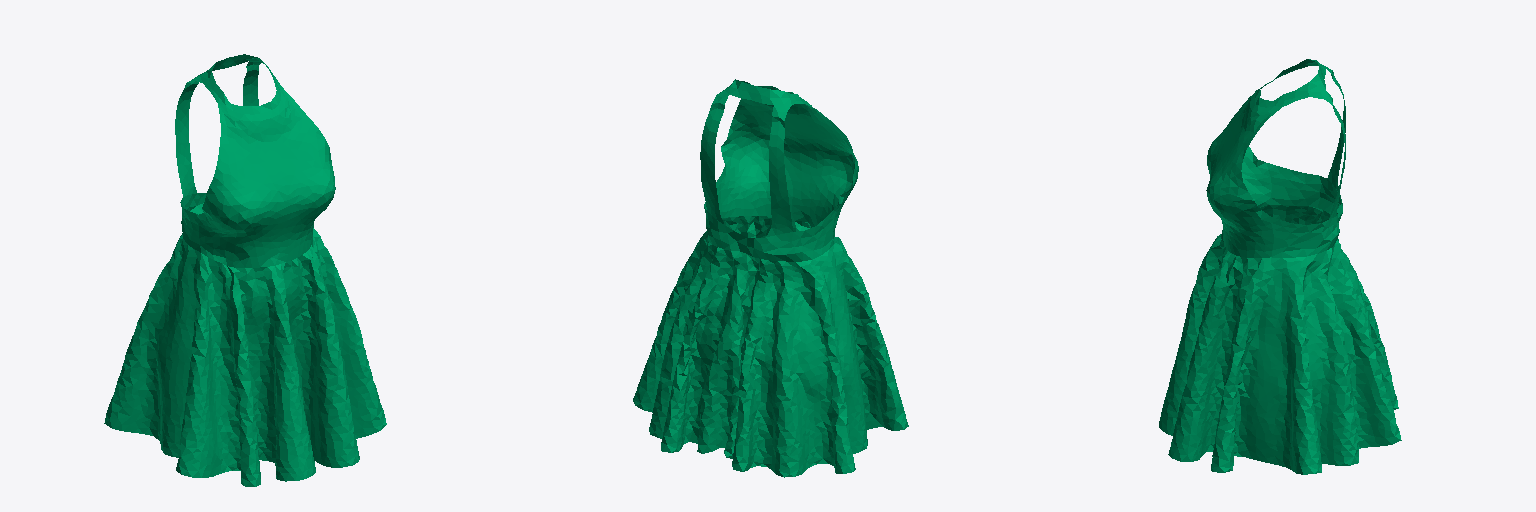
3 views of the same model, side by side, from view 1: azimuth 30°, elevation 25°; view 2: azimuth 150°, elevation 25°; view 3: azimuth 270°, elevation 25° (orthographic).
Parts seen in each view (by area): view 1: medium_makehuman_green_noinside4:polySurface2 medium_makehuman_g; view 2: medium_makehuman_green_noinside4:polySurface2 medium_makehuman_g; view 3: medium_makehuman_green_noinside4:polySurface2 medium_makehuman_g.
Part boxes in pixels (x1,y1,x2,y2): medium_makehuman_green_noinside4:polySurface2 medium_makehuman_g: (104,54,386,486); medium_makehuman_green_noinside4:polySurface2 medium_makehuman_g: (633,79,908,477); medium_makehuman_green_noinside4:polySurface2 medium_makehuman_g: (1159,59,1401,474).
Size of the model in its own units: 5.37 by 8.06 by 4.77.
Materials: 7 (1 with a texture image).